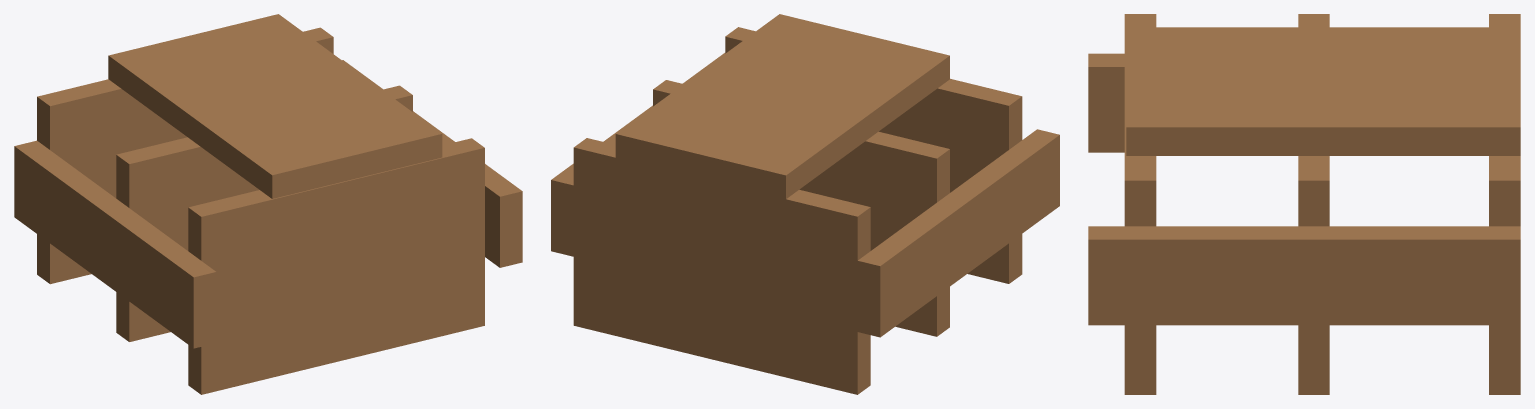
File: tinker.obj
3 views of the same model, side by side, from view 1: azimuth 30°, elevation 25°; view 2: azimuth 150°, elevation 25°; view 3: azimuth 270°, elevation 25° (orthographic). The views are drawn at different scales.
Parts seen in each view (by area): view 1: obj_0; view 2: obj_0; view 3: obj_0.
Part boxes in pixels (x1,y1,x2,y2): obj_0: [14, 14, 522, 394]; obj_0: [551, 14, 1059, 394]; obj_0: [1088, 14, 1520, 394].
Size of the model in its own units: 290 by 170 by 274.
